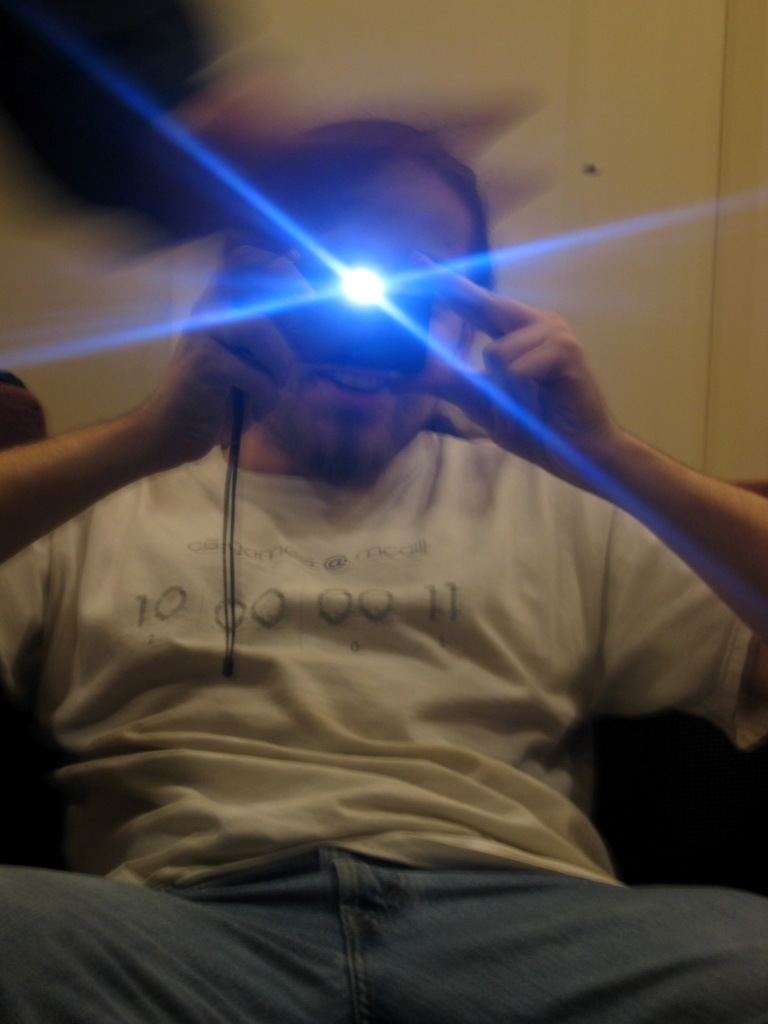Human_hand: (150, 239, 322, 465), (478, 268, 636, 420)
